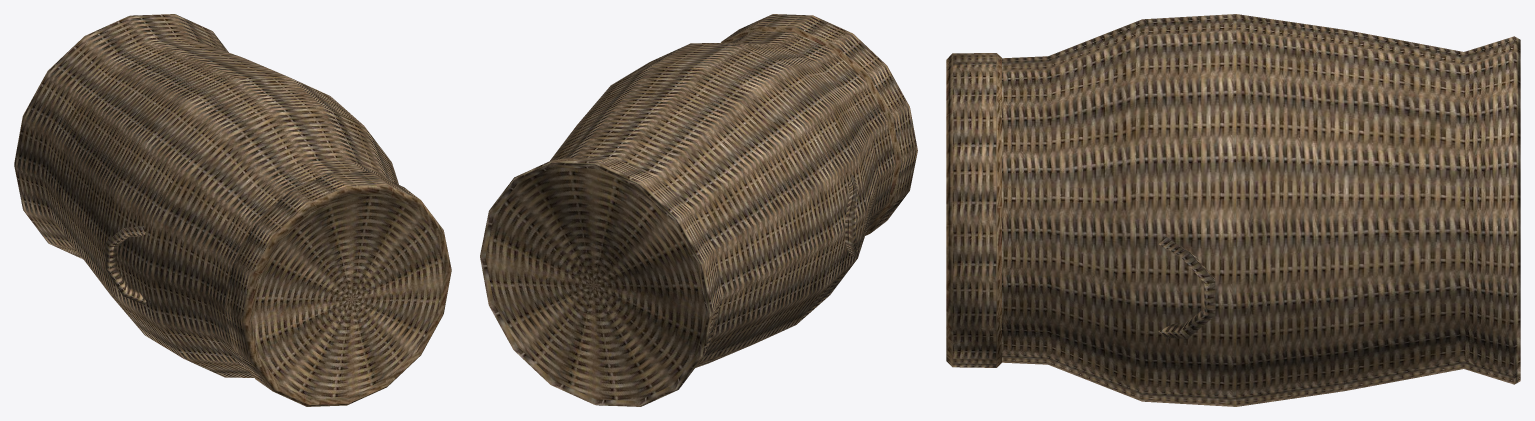
The model's file is prop_rattanbasket6.glb.
3 views of the same model, side by side, from view 1: azimuth 30°, elevation 25°; view 2: azimuth 150°, elevation 25°; view 3: azimuth 270°, elevation 25° (orthographic). The views are drawn at different scales.
Size of the model in its own units: 35.07 by 32.85 by 47.93.
1 material, 1 textured.
